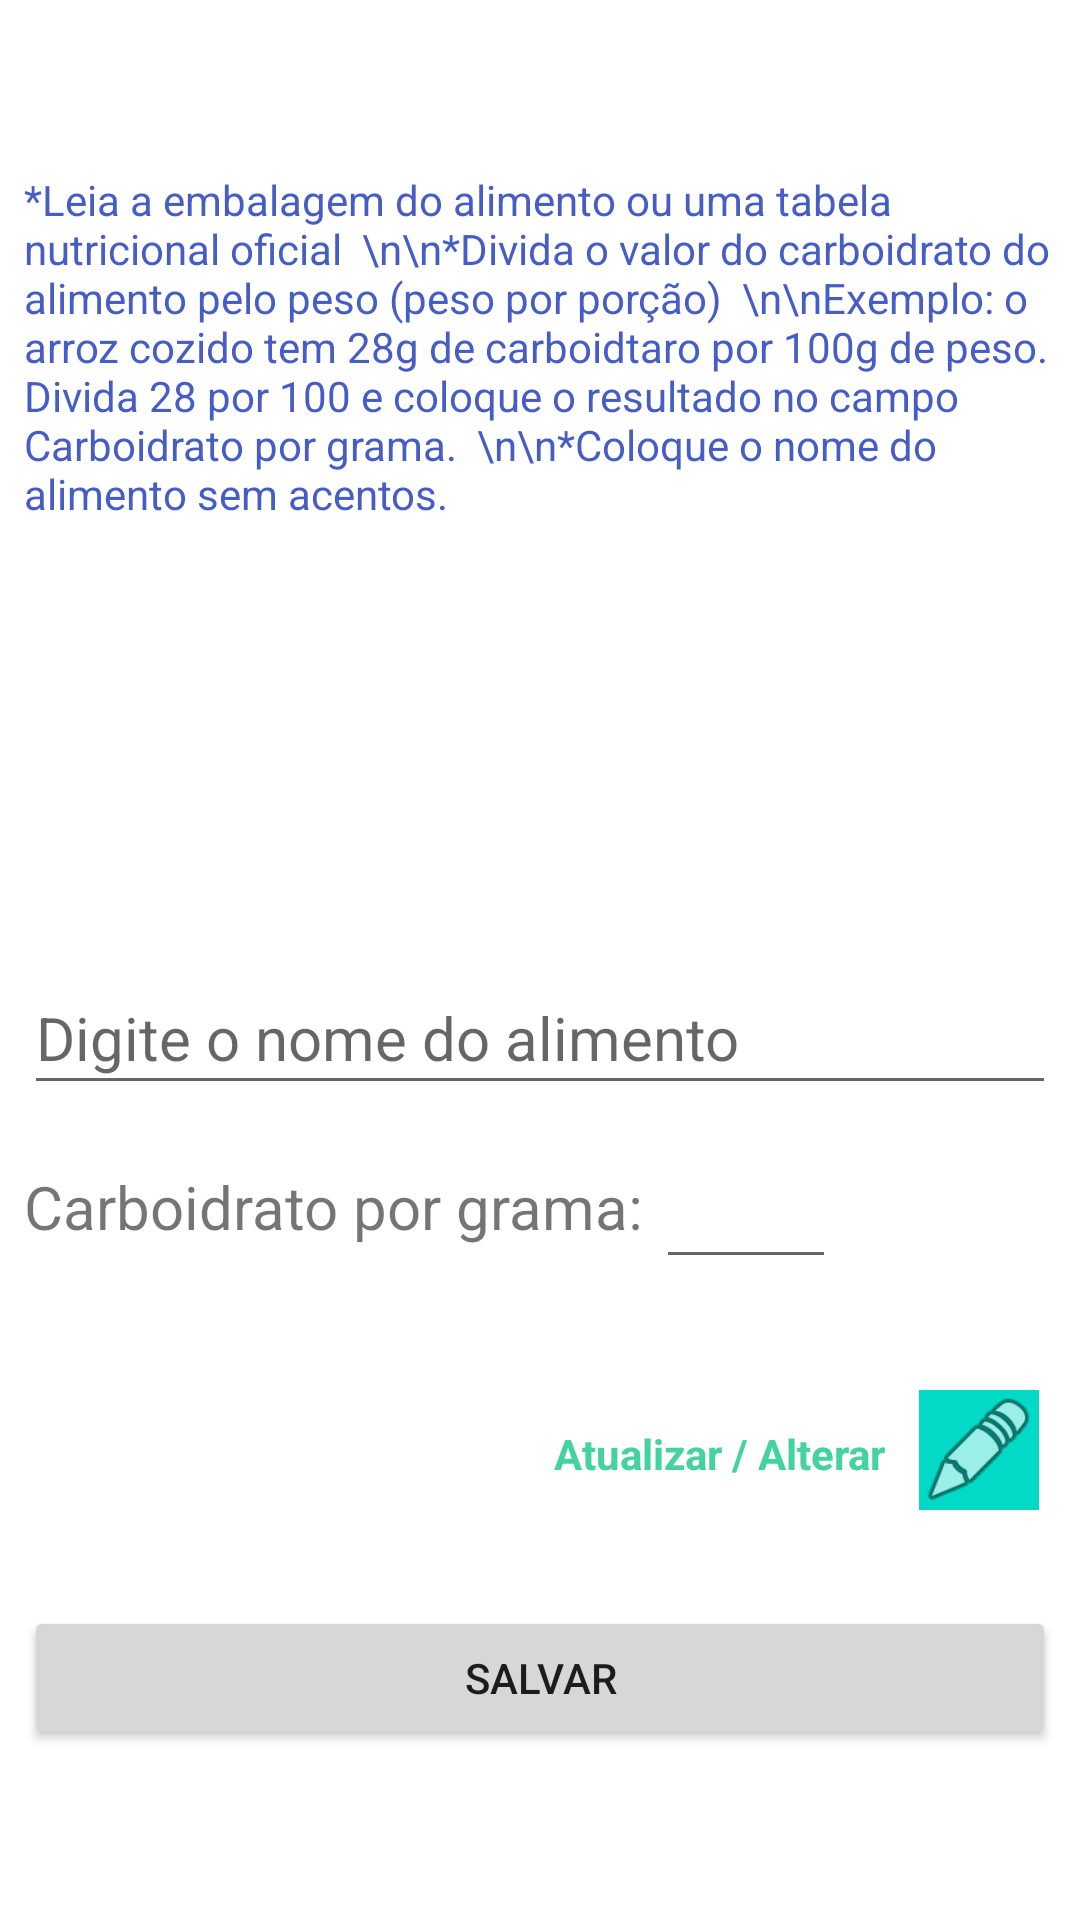

Locate icon controls on the screen. Image size 1080w x 1920h, boxes as (x1,y1,x2,y2).
edit: (919,1390,1039,1510)
